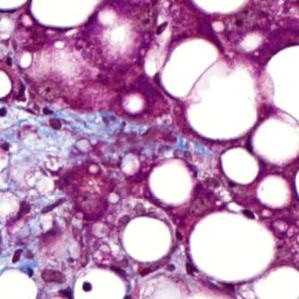steatosis: (152, 158, 196, 208), (123, 217, 172, 261), (220, 145, 261, 185), (258, 174, 292, 208)
